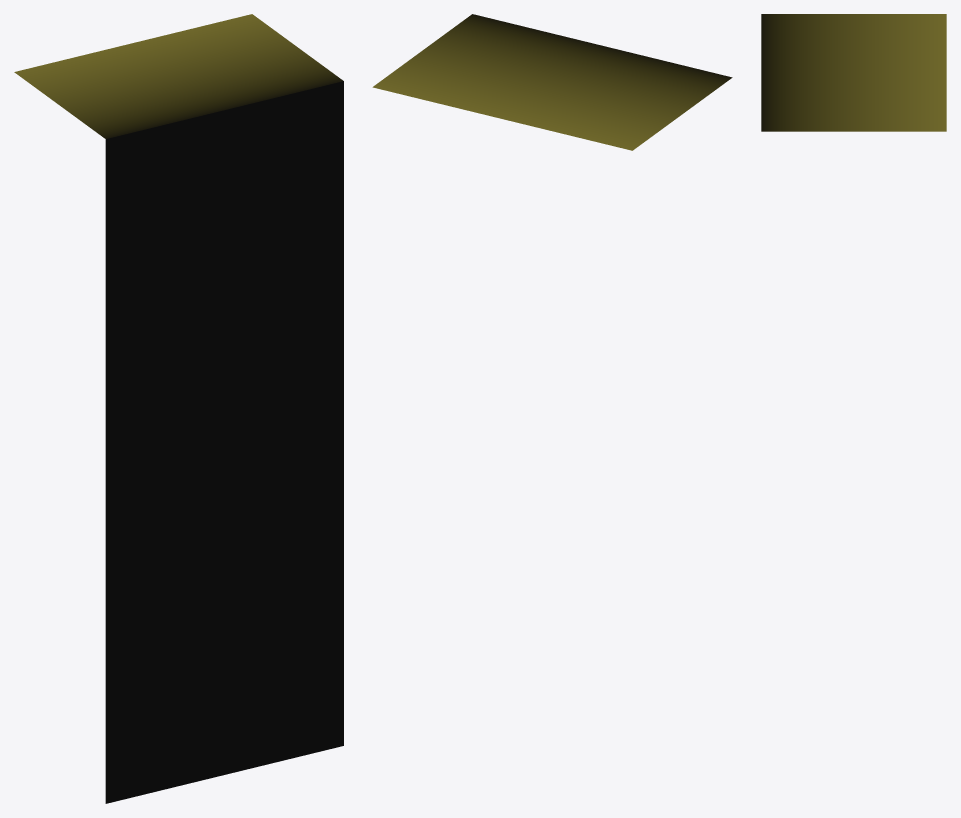
The picture shows the model from 3 angles, left to right: view 1: azimuth 30°, elevation 25°; view 2: azimuth 150°, elevation 25°; view 3: azimuth 270°, elevation 25°; orthographic projection. The views are drawn at different scales.
Size of the model in its own units: 0.75 by 2 by 0.5.
1 material, 1 textured.
